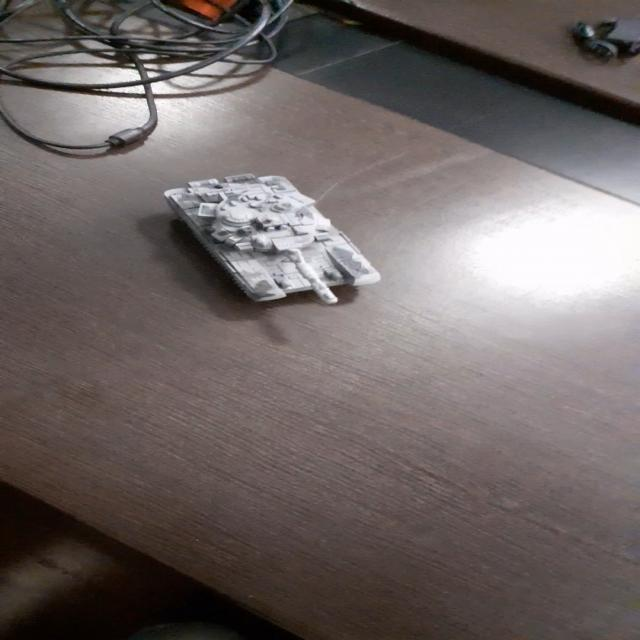tank: (155, 168, 394, 312)
